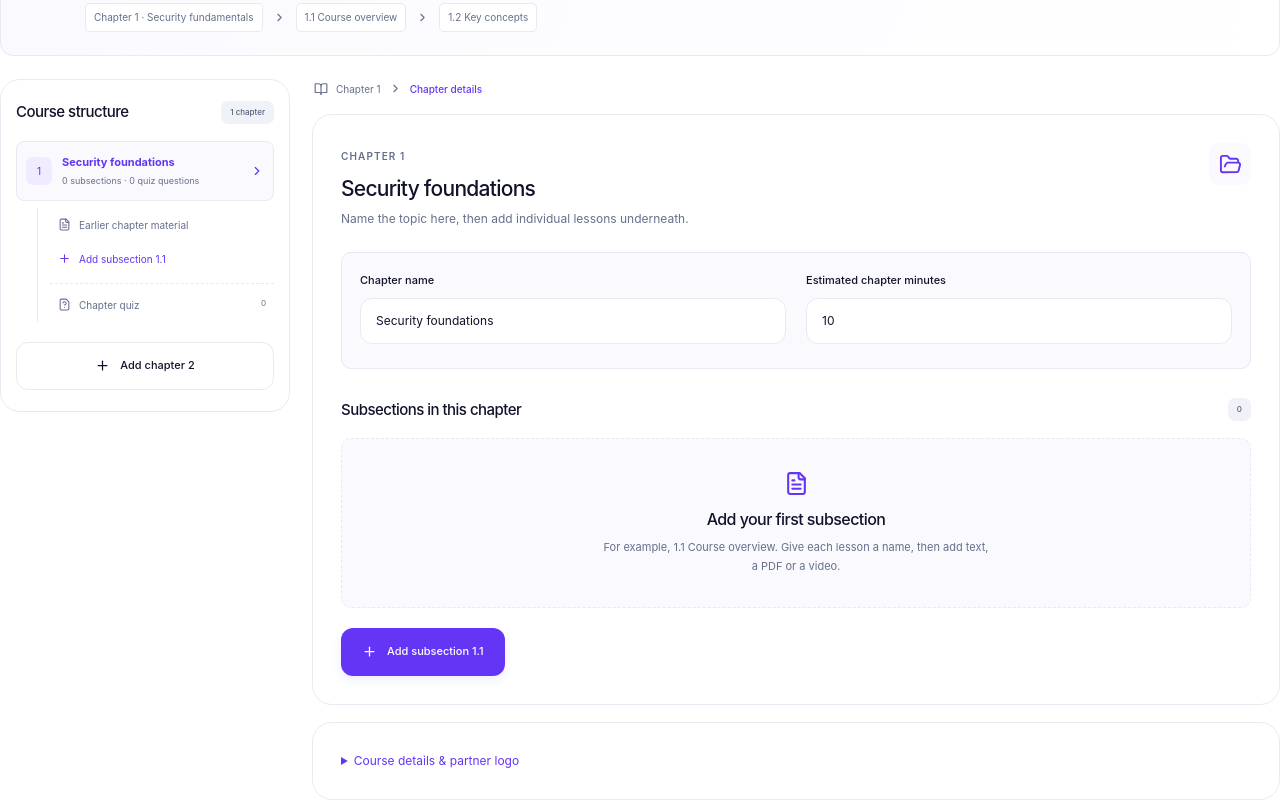
PDF and video learning materials › labels the editable course description as About this course
This screenshot has width=1280, height=800.
(page scrolled)
Click the heading "Course details & partner logo" at (436, 760), box left=354, top=753, right=519, bottom=768
(page scrolled)
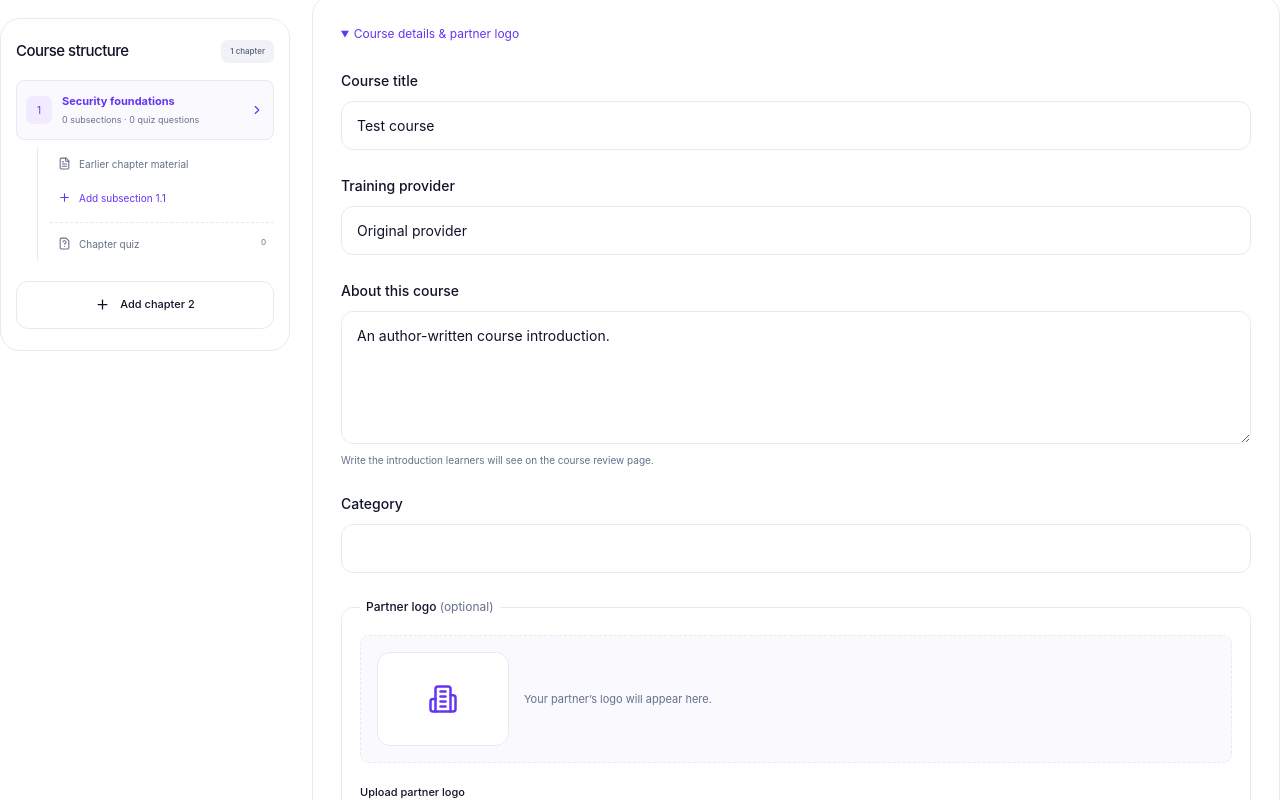
expect the text box labelled "About this course" holds "An author-written course introduction.": met, box left=341, top=311, right=1251, bottom=444
expect the text "Write the introduction learners will see on the course review page." is shown: met, box left=341, top=454, right=654, bottom=466
